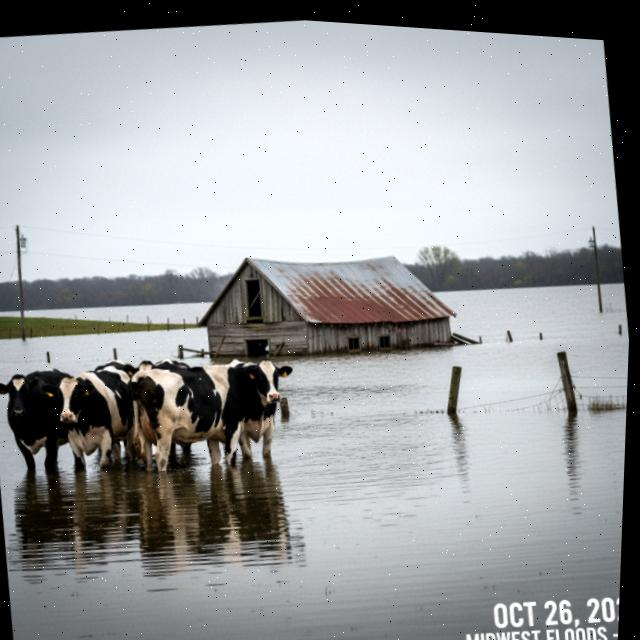cow: (117, 343, 313, 489), (40, 351, 151, 478), (0, 358, 90, 491), (125, 348, 199, 386)
